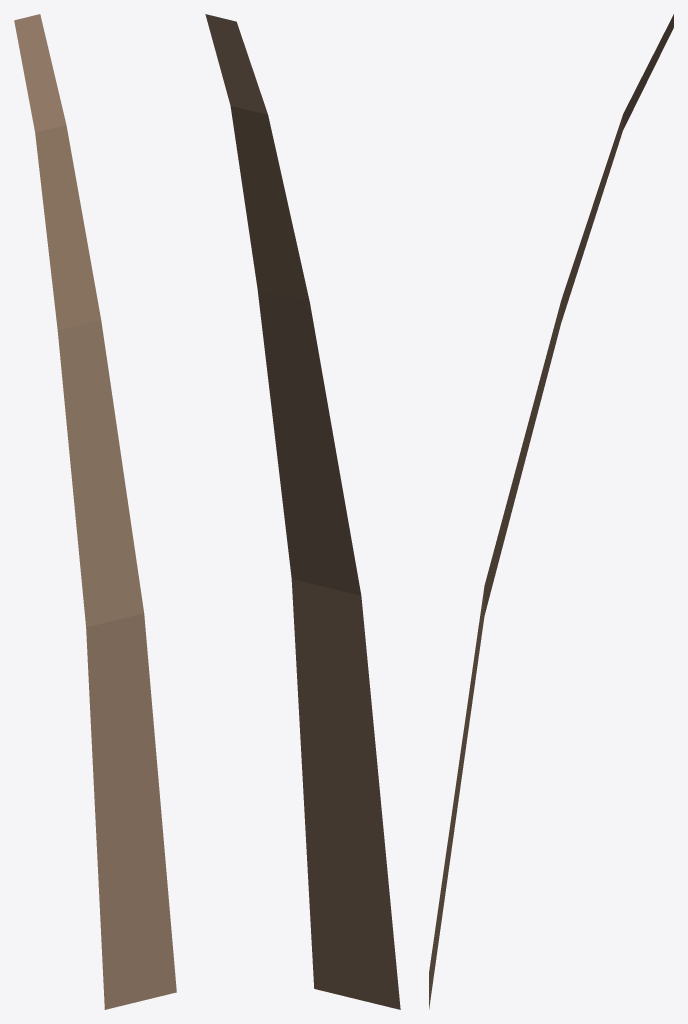
The model's file is grass.glb.
3 views of the same model, side by side, from view 1: azimuth 30°, elevation 25°; view 2: azimuth 150°, elevation 25°; view 3: azimuth 270°, elevation 25° (orthographic). The views are drawn at different scales.
Visible parts, largest first — view 1: grass.001; view 2: grass.001; view 3: grass.001.
Boxes of the visible parts, x1,y1,x2,y2 form: grass.001: (14,14,176,1009); grass.001: (205,14,400,1009); grass.001: (429,14,673,1009).
Bounding box in the file's own units: 0.0464 × 0.5551 × 0.1269.
